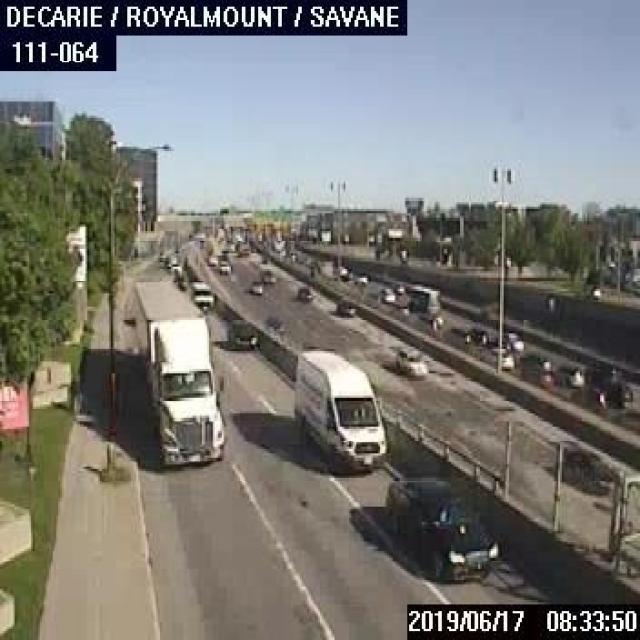vehicle: (133, 278, 225, 467), (384, 471, 498, 578), (291, 347, 385, 469), (549, 436, 615, 494), (403, 278, 438, 316), (224, 318, 256, 347), (600, 377, 631, 406), (572, 382, 605, 409), (391, 349, 427, 373), (550, 360, 582, 386), (520, 361, 550, 388), (188, 279, 213, 310), (480, 345, 511, 369), (462, 323, 495, 344), (520, 349, 550, 369), (493, 330, 522, 350), (376, 284, 394, 302), (262, 314, 282, 330), (336, 302, 356, 316), (329, 264, 347, 278), (217, 258, 230, 274), (259, 266, 273, 280), (296, 284, 309, 298), (354, 269, 366, 282), (249, 279, 261, 291), (392, 282, 403, 293)
